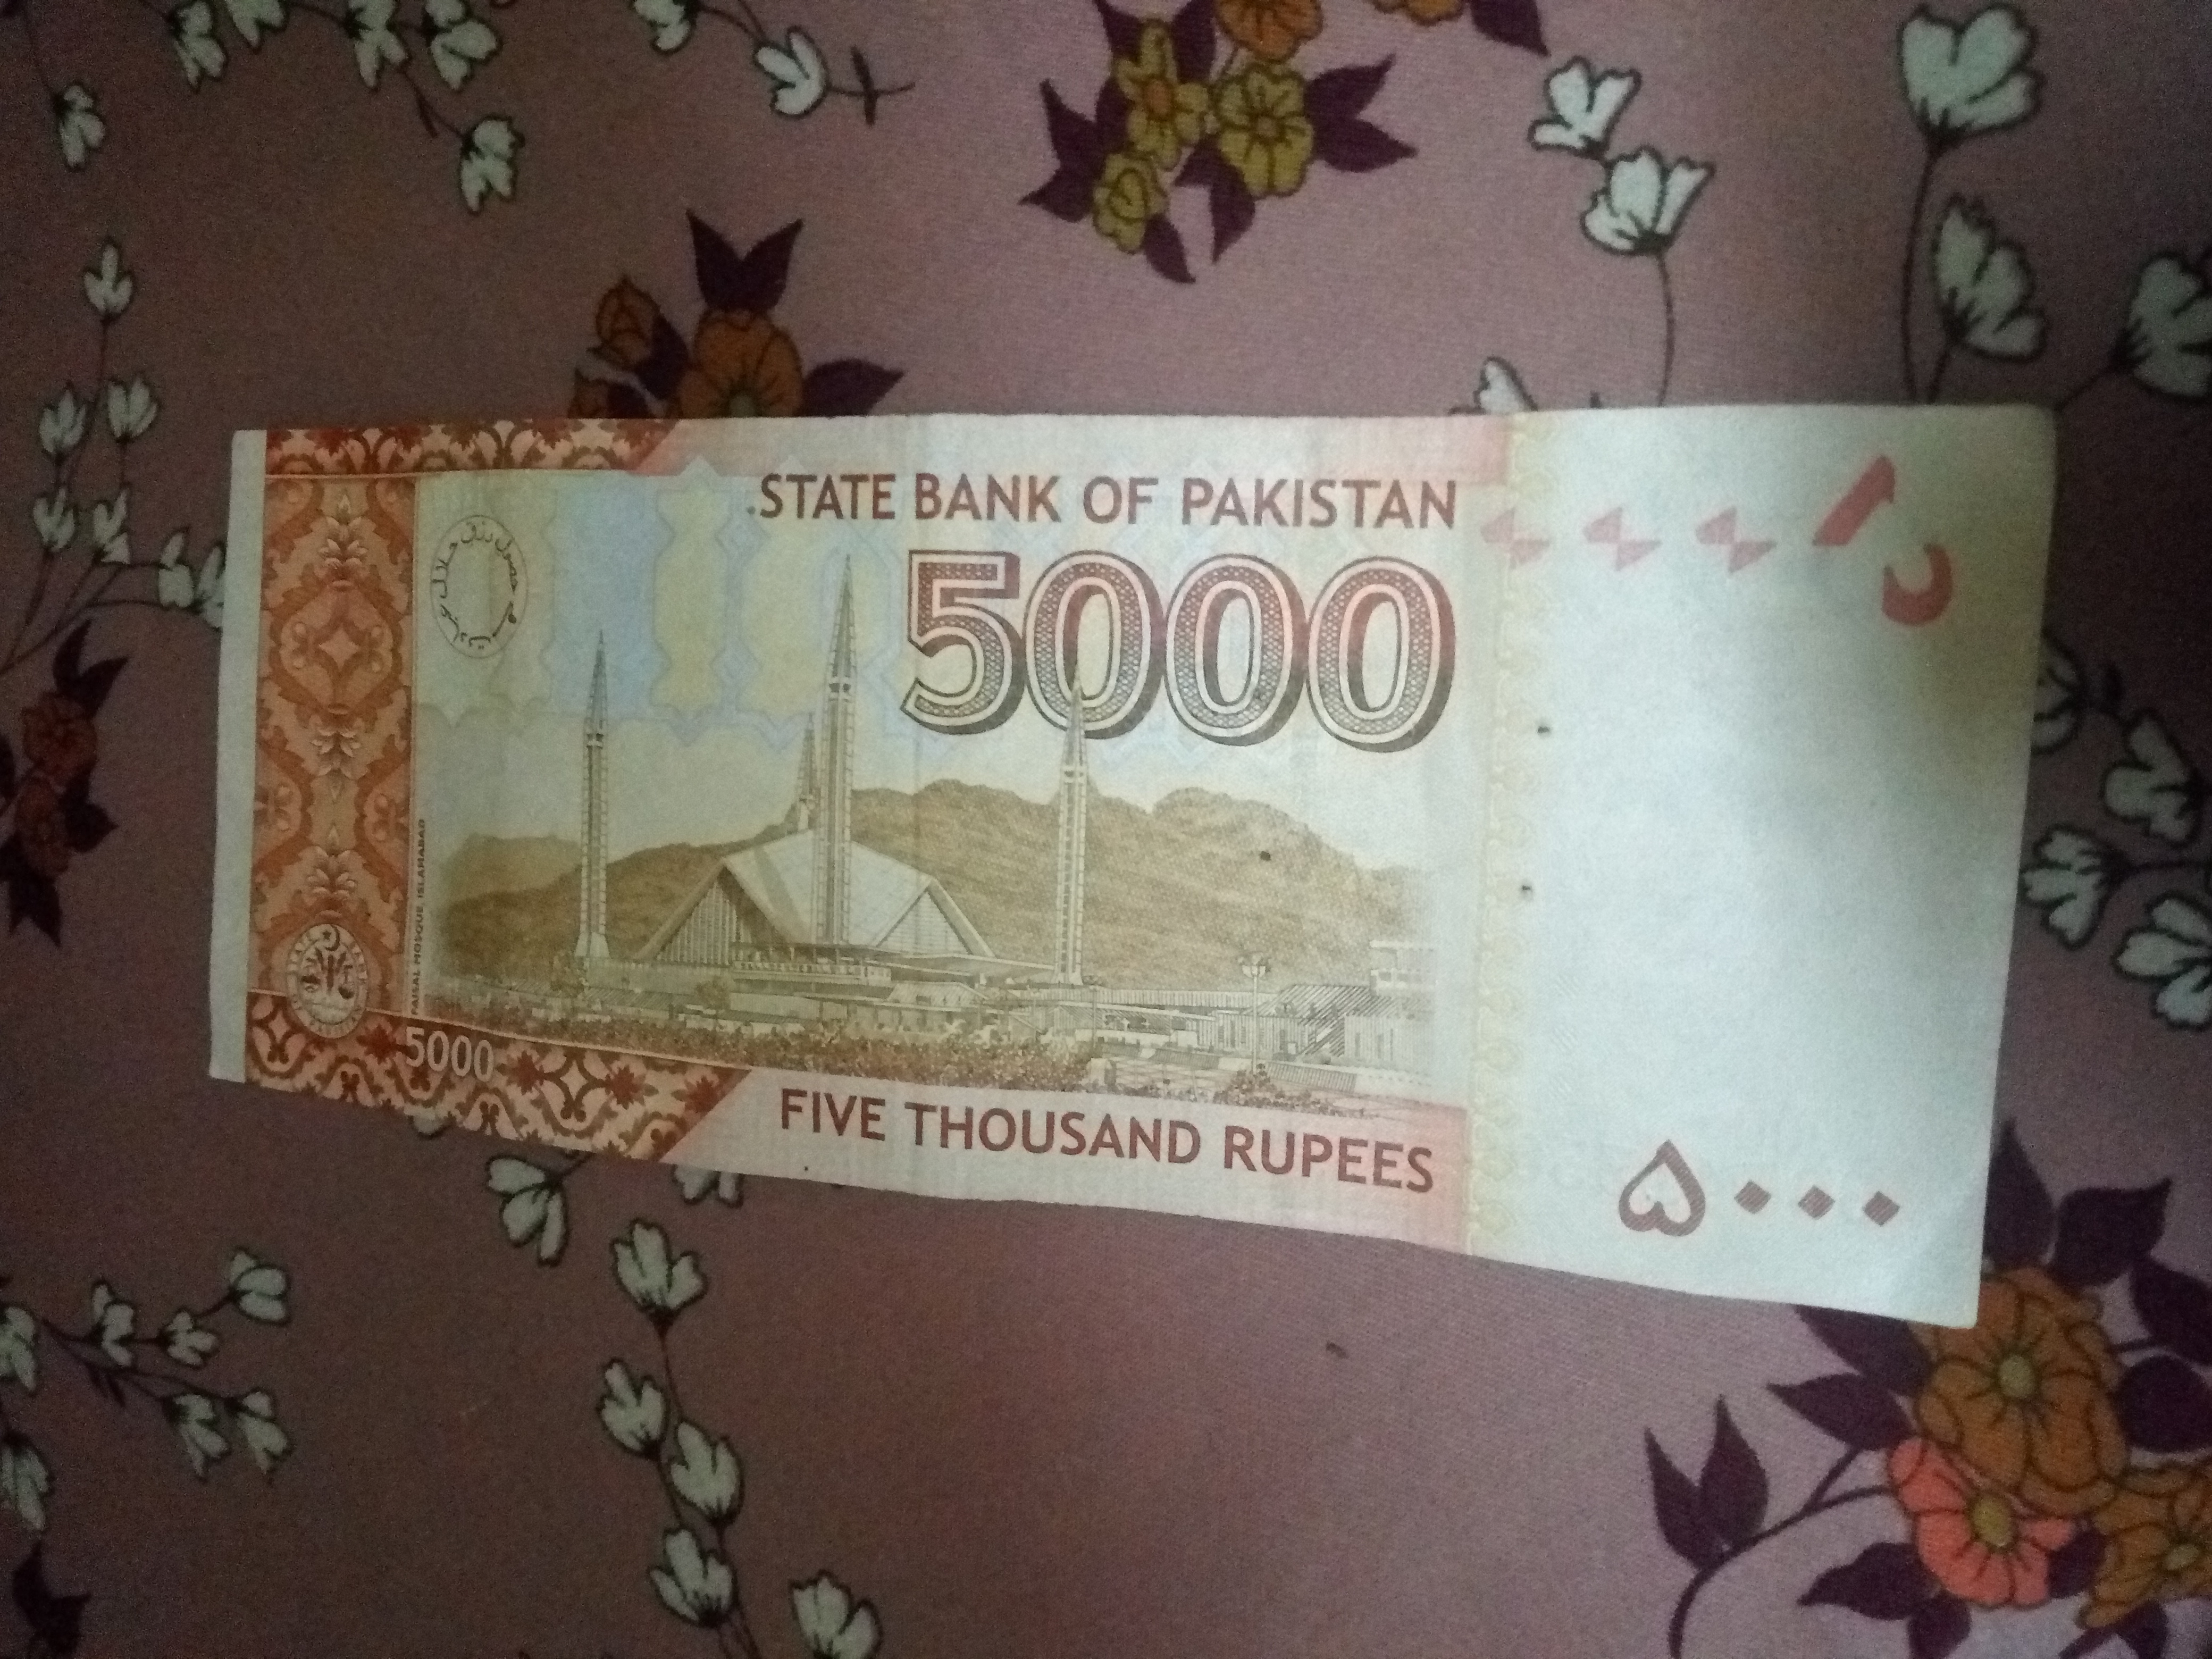5000 rupee: (195, 403, 2069, 1349)
